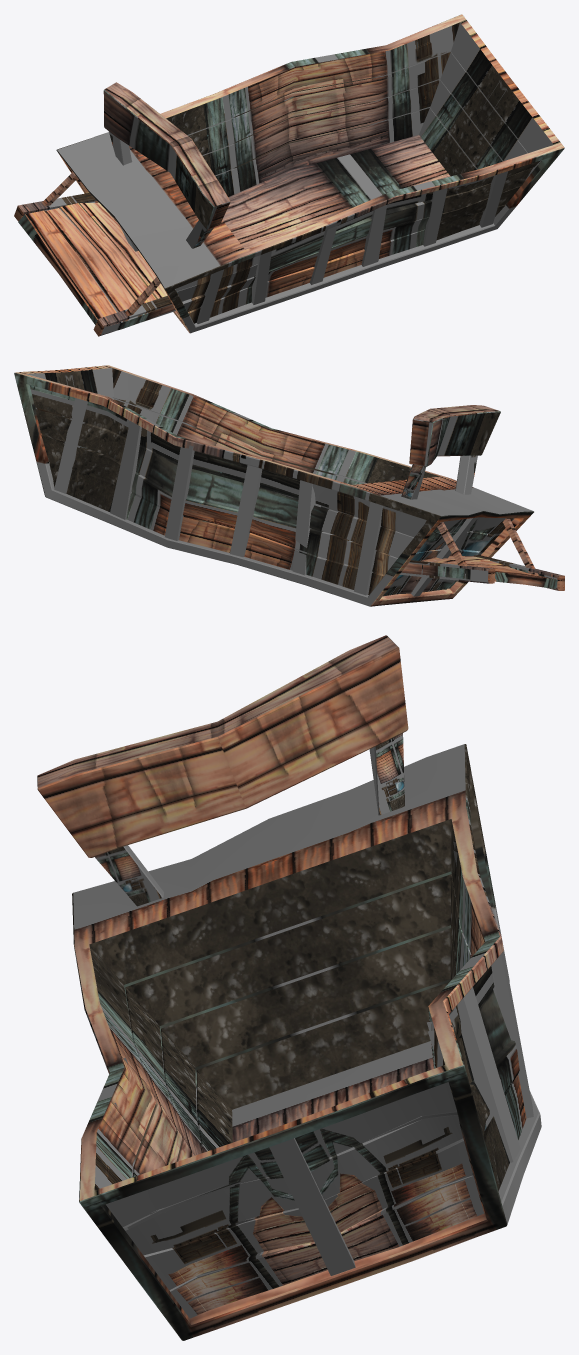
Rendered from wagon02.FBX.
3 renders of one model, top to bottom at view 1: azimuth 30°, elevation 25°; view 2: azimuth 150°, elevation 25°; view 3: azimuth 270°, elevation 25°, orthographic. The views are drawn at different scales.
Visible parts, largest first — view 1: wagon02; view 2: wagon02; view 3: wagon02.
Boxes of the visible parts, box(x1,y1,x2,y2) form: wagon02: box(14, 14, 564, 336); wagon02: box(14, 365, 564, 606); wagon02: box(37, 635, 541, 1340).
Size of the model in its own units: 436 by 196 by 208.
